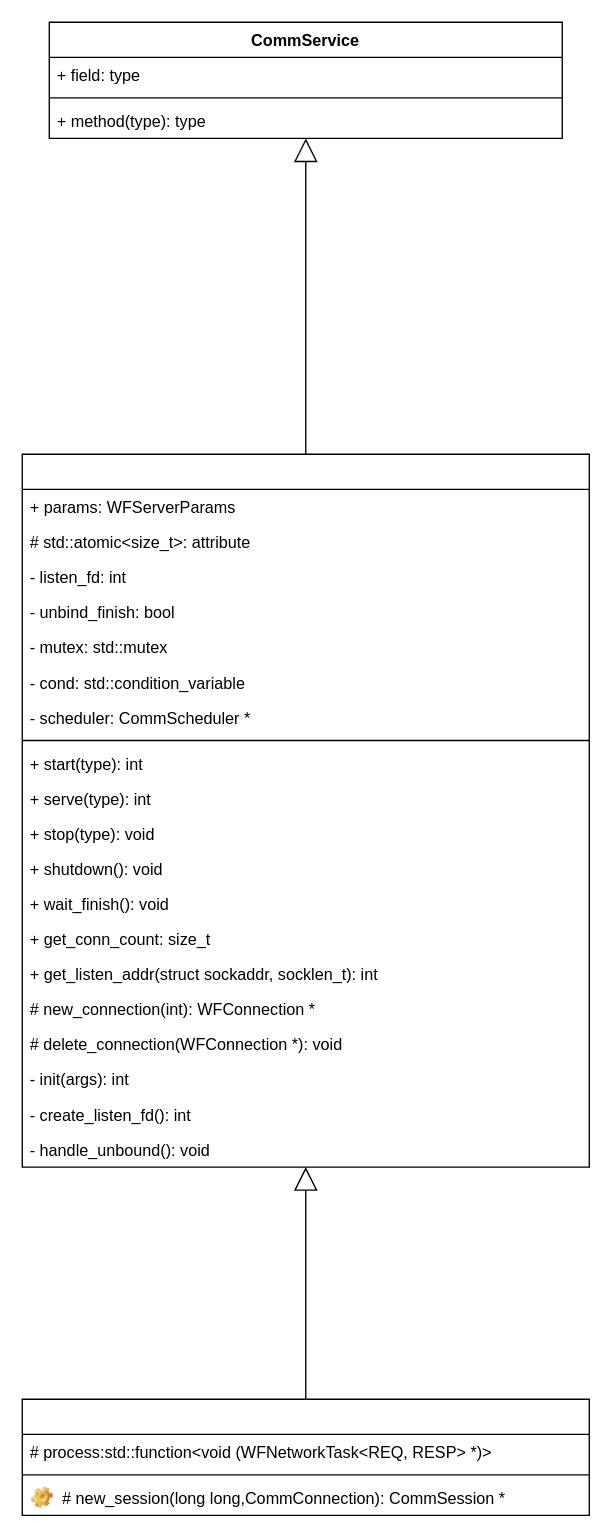
This 612x1538 diagram has some shape labels left out. The box of each missing label's shape, as (x1, y1, x2, y2) in pixels:
WFServer: (21, 1398, 589, 1515)
WFServerBase: (21, 453, 589, 1167)
